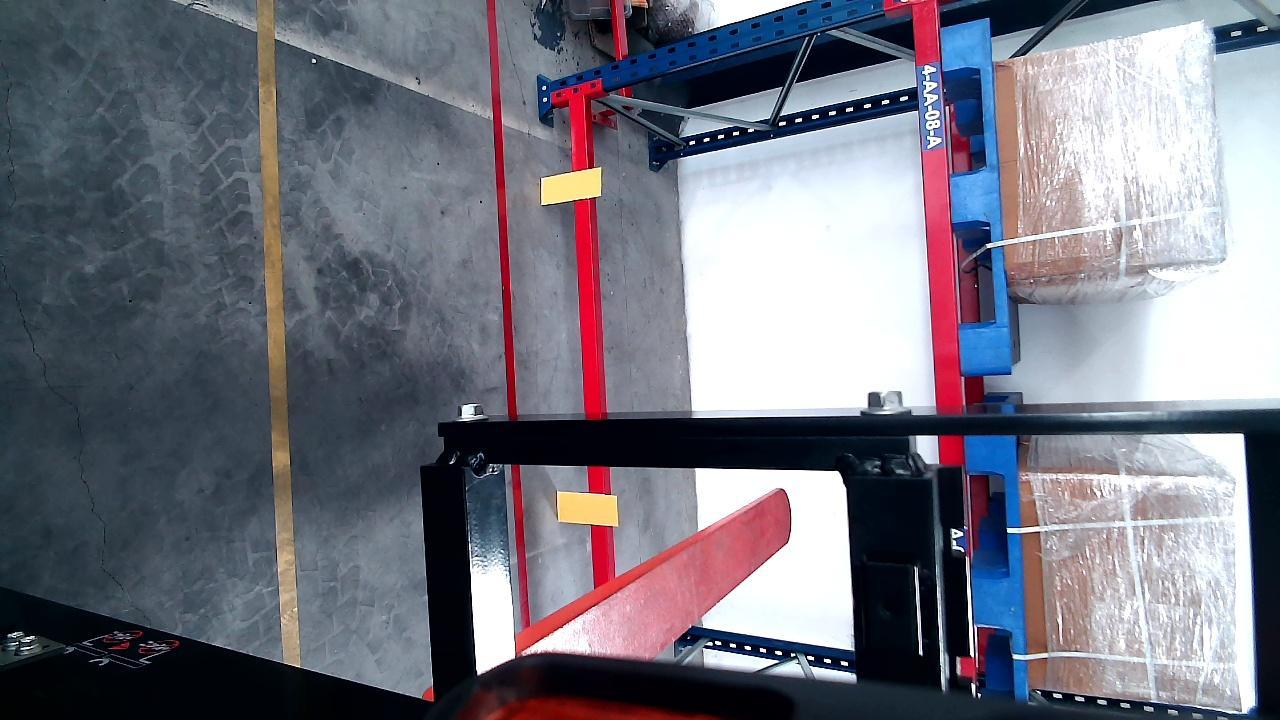red_line: (487, 1, 530, 629)
yellow_line: (258, 0, 298, 669)
